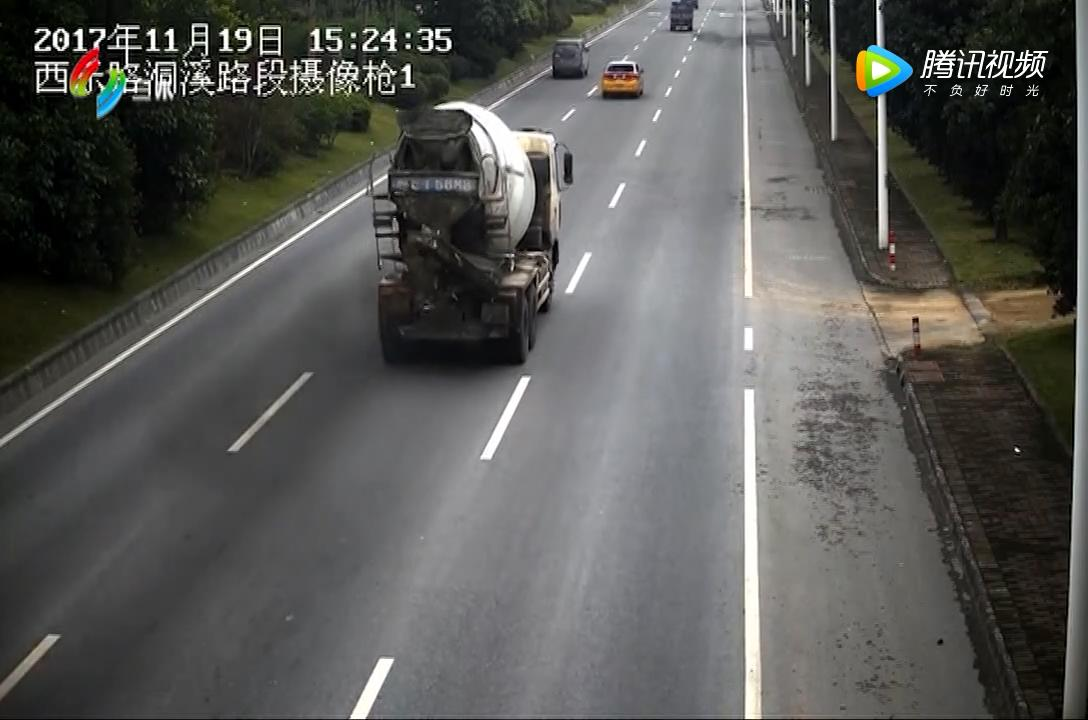smoke: (250, 254, 380, 410)
